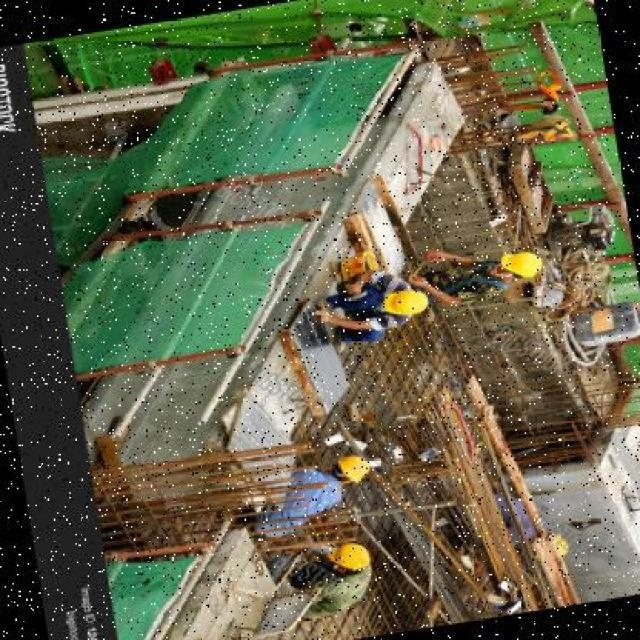Arnes_seguridad: (417, 255, 506, 311)
